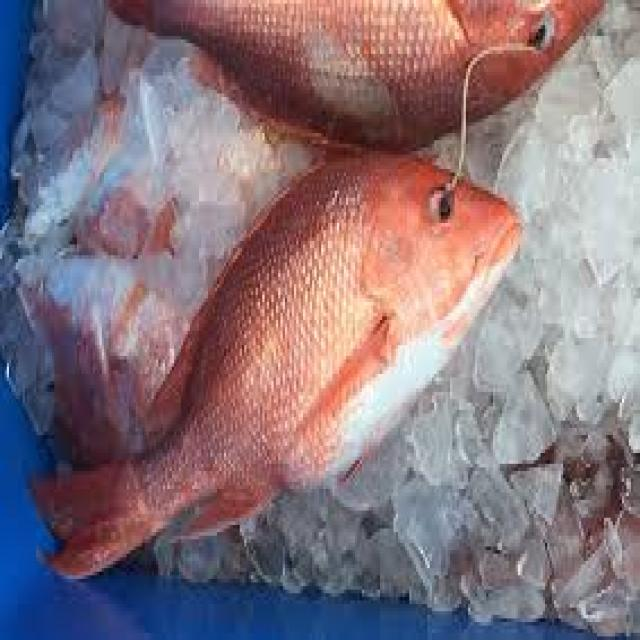Red Snapper: (28, 148, 518, 582)
